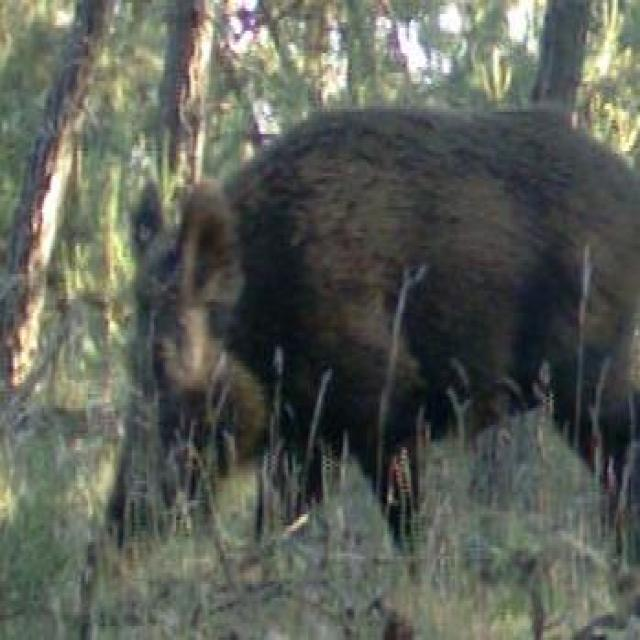pig: (111, 75, 640, 560)
